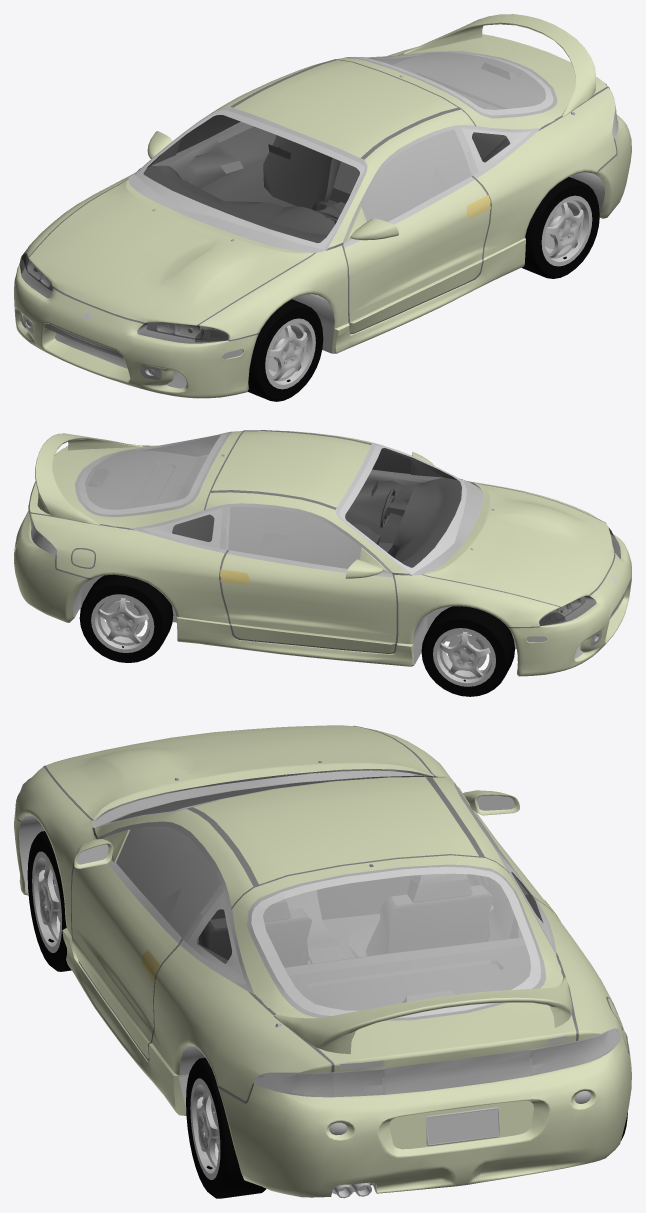
File: caryellow.fbx
3 views of the same model, one above another, from view 1: azimuth 30°, elevation 25°; view 2: azimuth 150°, elevation 25°; view 3: azimuth 270°, elevation 25° (orthographic). The views are drawn at different scales.
Parts seen in each view (by area): view 1: hp:chassis, hp:bonnet_ok, hp:door_lf_ok, hp:windscre02, hp:boot_ok, hp:bump_fro01, hp:door_rf_ok, wheel01, wheel, hp:glass, hp:line, hp:bump_rea01; view 2: hp:chassis, hp:door_rf_ok, hp:boot_ok, hp:bonnet_ok, hp:windscre02, hp:wheel, hp:bump_fro01, hp:wheel01, hp:door_lf_ok, hp:bump_rea01, hp:line, hp:glass; view 3: hp:chassis, hp:boot_ok, hp:bump_rea01, hp:door_lf_ok, hp:bonnet_ok, wheel01, wheel, hp:line, hp:door_rf_ok, hp:glass, hp:windscre02.
Part boxes in pixels (x1,y1,x2,y2): hp:chassis: (20,46,618,388); hp:bonnet_ok: (29,179,314,325); hp:door_lf_ok: (343,129,490,332); hp:windscre02: (144,115,359,242); hp:boot_ok: (337,14,607,129); hp:bump_fro01: (14,259,258,398); hp:door_rf_ok: (147,115,275,201); wheel01: (521,177,599,278); wheel: (247,299,323,401); hp:glass: (19,132,509,343); hp:line: (28,53,617,341); hp:bump_rea01: (594,114,631,218); hp:chassis: (29,430,620,675); hp:door_rf_ok: (220,506,396,652); hp:boot_ok: (28,431,242,528); hp:bonnet_ok: (423,482,614,606); hp:windscre02: (345,448,461,567); hp:wheel: (421,606,514,696); hp:bump_fro01: (508,533,631,676); hp:wheel01: (79,574,173,662); hp:door_lf_ok: (345,448,442,543); hp:bump_rea01: (14,511,89,622); hp:line: (29,430,615,653); hp:glass: (172,514,620,625); hp:chassis: (16,728,628,1198); hp:boot_ok: (232,855,576,1071); hp:bump_rea01: (218,1036,631,1197); hp:door_lf_ok: (71,826,220,1058); hp:bonnet_ok: (46,725,433,819); wheel01: (186,1057,266,1198); wheel: (27,831,71,971); hp:line: (15,725,628,1103); hp:door_rf_ok: (456,787,559,941); hp:glass: (20,778,542,963); hp:windscre02: (111,775,437,821).
Bounding box in the file's own units: 32.28 × 9.34 × 20.26.
